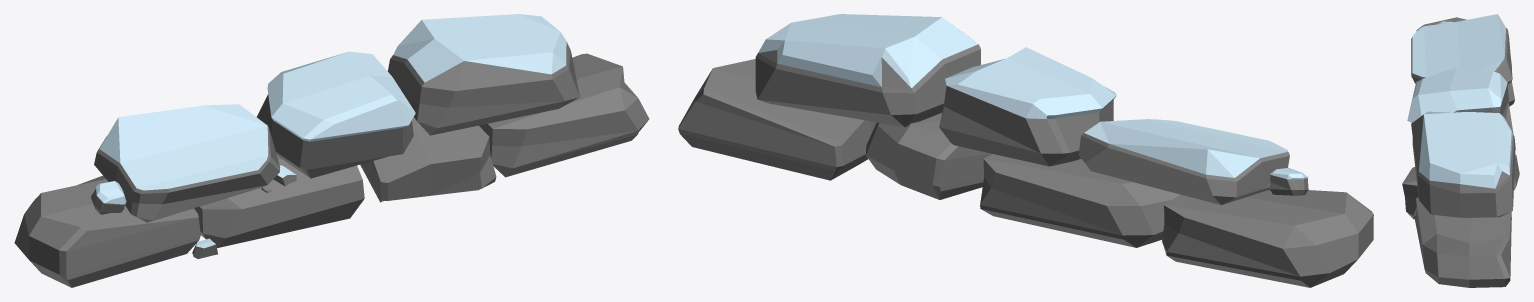
File: model_polytope_snow_wall.fbx
The picture shows the model from 3 angles, left to right: view 1: azimuth 30°, elevation 25°; view 2: azimuth 150°, elevation 25°; view 3: azimuth 270°, elevation 25°; orthographic projection. The views are drawn at different scales.
Visible parts, largest first — view 1: model_polytope_snow_wall; view 2: model_polytope_snow_wall; view 3: model_polytope_snow_wall.
Boxes of the visible parts, x1,y1,x2,y2 form: model_polytope_snow_wall: [14, 14, 649, 287]; model_polytope_snow_wall: [678, 14, 1373, 287]; model_polytope_snow_wall: [1402, 14, 1519, 287].
Bounding box in the file's own units: 352 × 73.47 × 74.37.
1 material, 1 textured.
